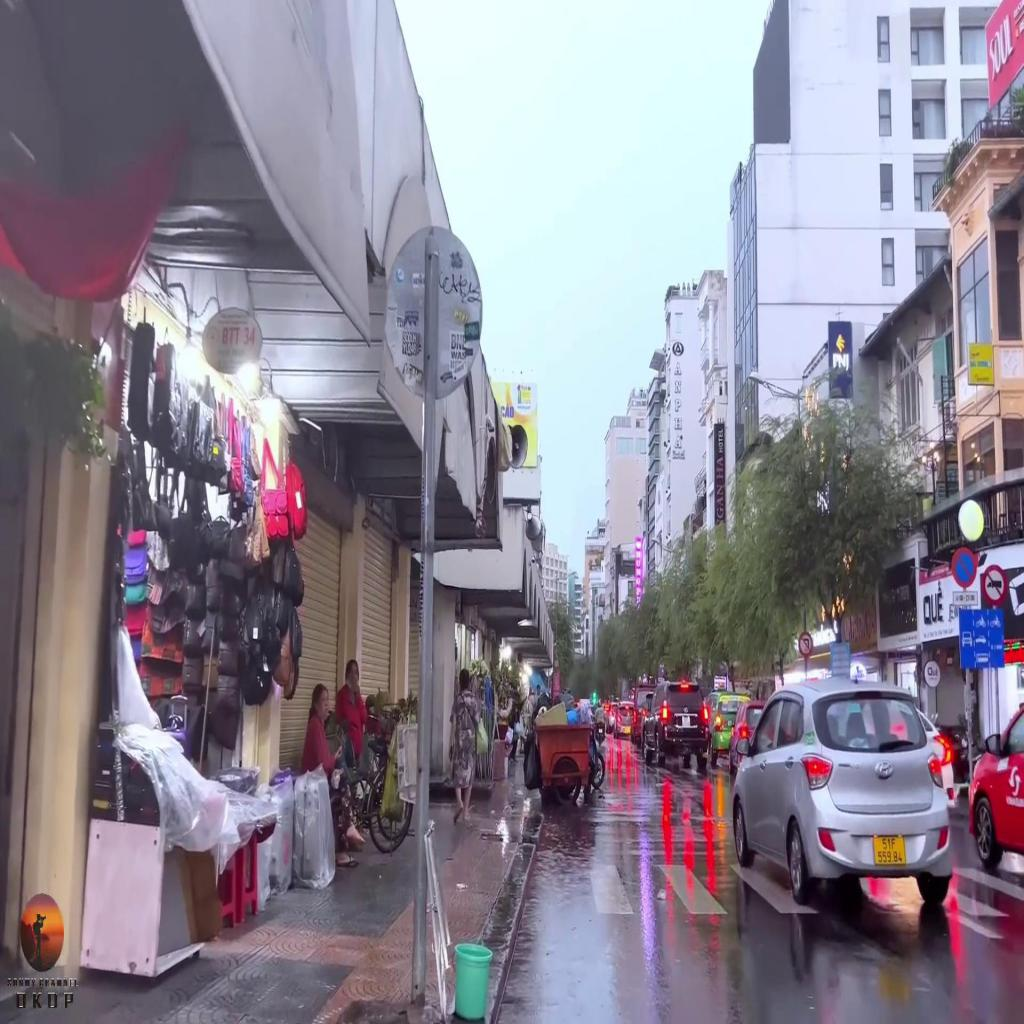cam_do_xe: (953, 544, 977, 588)
cam_o_to_re_trai: (799, 632, 813, 656)
cam_o_to_tai_trong_luong_qua_10t: (983, 564, 1007, 606)
khac: (958, 608, 1004, 666), (953, 592, 978, 605)
